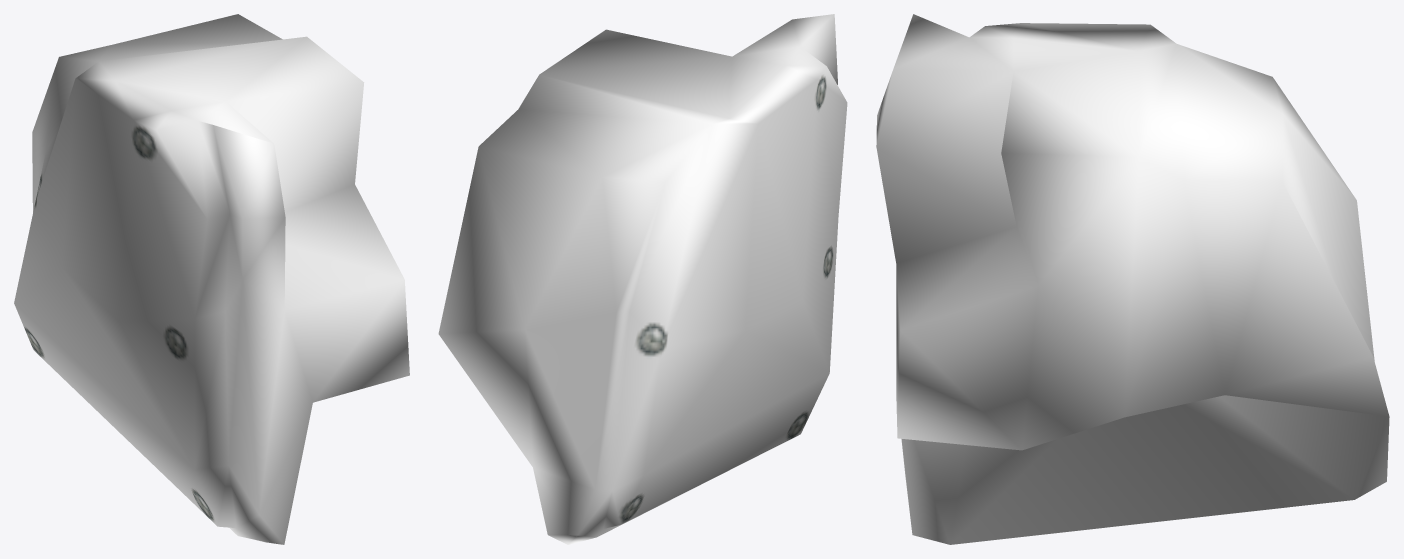
The model's file is palm_right.obj.
3 renders of one model, left to right at view 1: azimuth 30°, elevation 25°; view 2: azimuth 150°, elevation 25°; view 3: azimuth 270°, elevation 25°, orthographic. The views are drawn at different scales.
Size of the model in its own units: 0.0577 by 0.1075 by 0.1013.
1 material, 1 textured.
